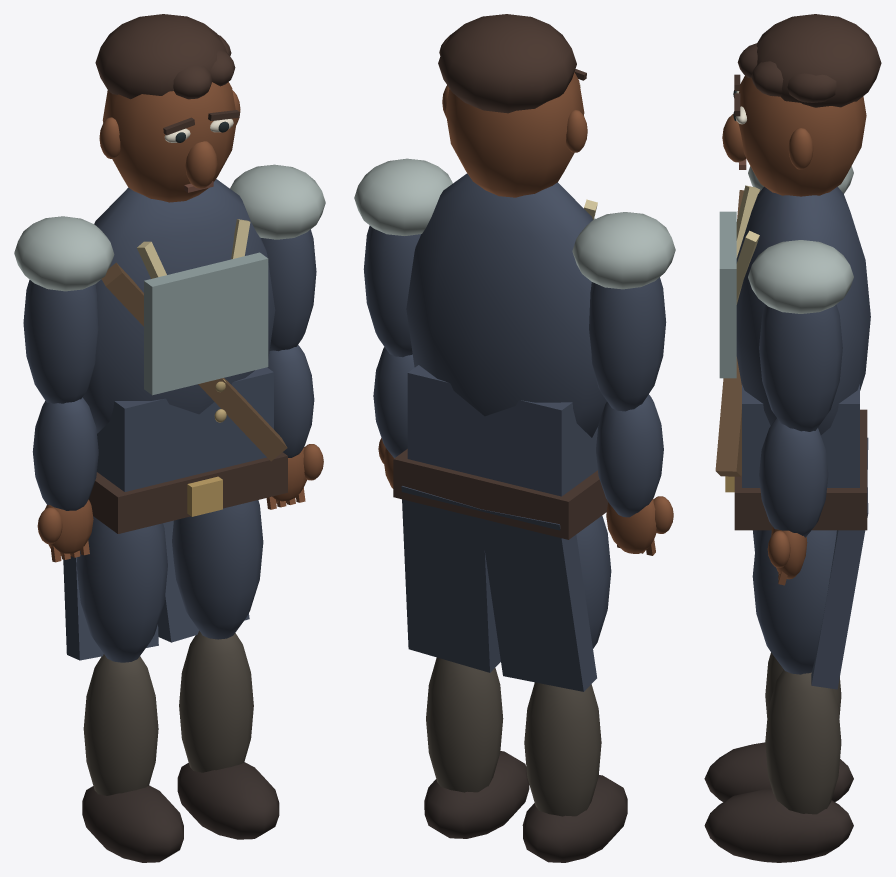
Rendered from skybreaker.glb.
3 renders of one model, left to right at view 1: azimuth 30°, elevation 25°; view 2: azimuth 150°, elevation 25°; view 3: azimuth 270°, elevation 25°, orthographic. The views are drawn at different scales.
Visible parts, largest first — view 1: radiant_1_stone, shin_and_foot_stone (×2), order_equipment_metal, face_and_hair_stone, thigh_stone (×2), forearm_and_fingers_stone (×2), upper_arm_stone (×2), split_cloth_stone, radiant_1_metal; view 2: radiant_1_stone, split_cloth_stone, shin_and_foot_stone (×2), face_and_hair_stone, upper_arm_stone (×2), forearm_and_fingers_stone (×2), order_equipment_metal, thigh_stone; view 3: radiant_1_stone, face_and_hair_stone, shin_and_foot_stone (×2), order_equipment_metal, upper_arm_stone, forearm_and_fingers_stone, thigh_stone, split_cloth_stone.
Part boxes in pixels (x1,y1,x2,y2): radiant_1_stone: (82, 179, 287, 533); shin_and_foot_stone (×2): (82, 631, 279, 862); order_equipment_metal: (14, 164, 325, 395); face_and_hair_stone: (95, 14, 240, 202); thigh_stone (×2): (76, 500, 263, 662); forearm_and_fingers_stone (×2): (32, 345, 323, 562); upper_arm_stone (×2): (23, 229, 316, 403); split_cloth_stone: (63, 520, 249, 660); radiant_1_metal: (187, 379, 226, 516); radiant_1_stone: (393, 173, 607, 539); split_cloth_stone: (401, 486, 596, 691); shin_and_foot_stone (×2): (424, 657, 627, 862); face_and_hair_stone: (438, 14, 587, 197); upper_arm_stone (×2): (363, 225, 666, 411); forearm_and_fingers_stone (×2): (373, 347, 673, 555); order_equipment_metal: (354, 158, 675, 289); thigh_stone: (576, 516, 611, 648); radiant_1_stone: (715, 185, 870, 530); face_and_hair_stone: (722, 14, 881, 196); shin_and_foot_stone (×2): (704, 652, 853, 862); order_equipment_metal: (719, 166, 853, 378); upper_arm_stone: (759, 304, 842, 431); forearm_and_fingers_stone: (759, 418, 828, 585); thigh_stone: (752, 530, 836, 674); split_cloth_stone: (811, 437, 868, 689).
Size of the model in its own units: 0.716 by 1.86 by 0.367.
